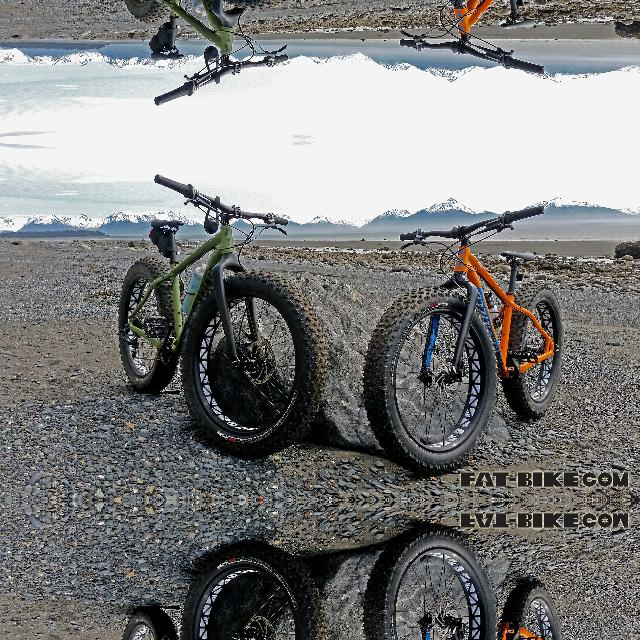obstacle: (94, 165, 333, 462), (350, 184, 592, 476), (350, 524, 592, 640), (94, 0, 333, 114), (94, 537, 333, 640), (350, 0, 592, 95)
